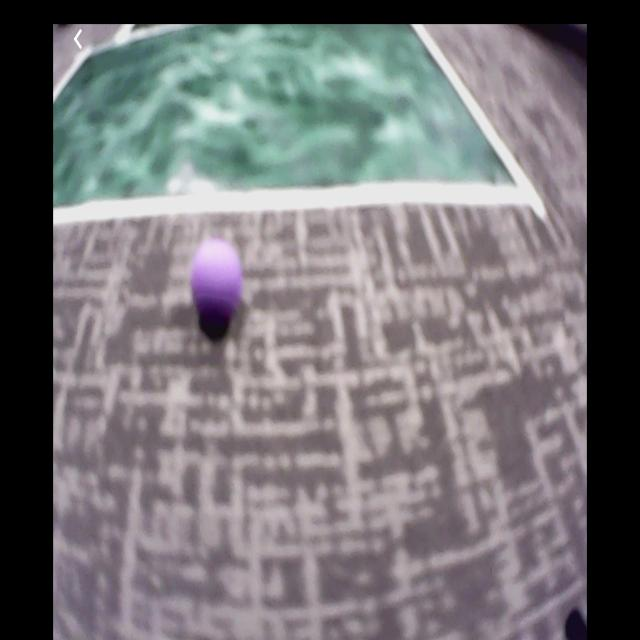ball: (192, 242, 240, 316)
